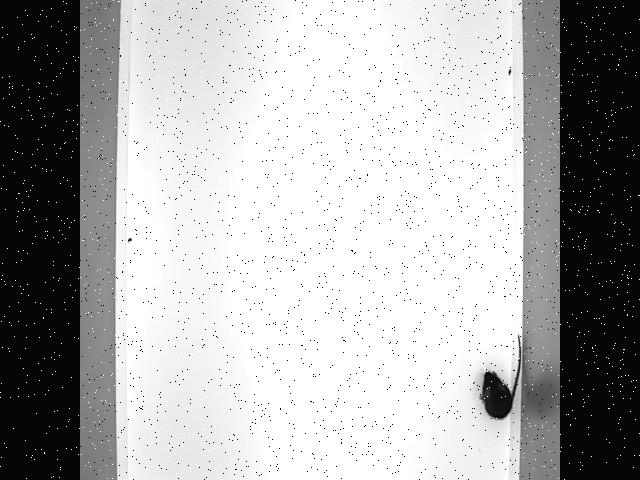Tikus: (478, 331, 522, 421)
